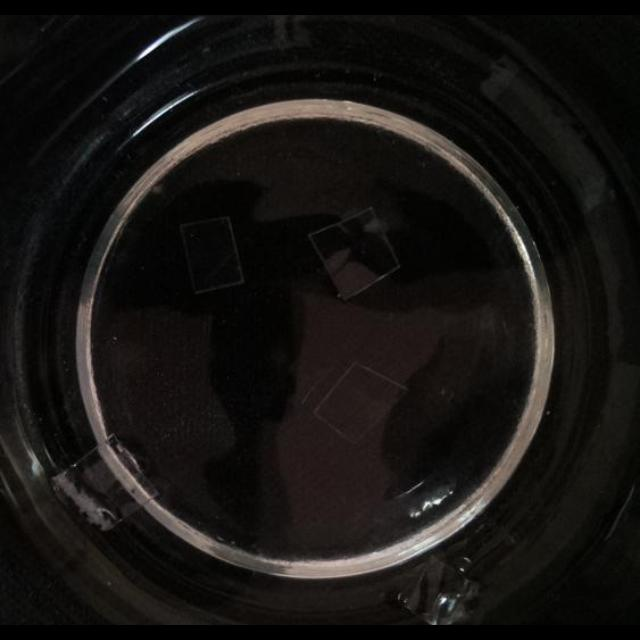Film: (54, 436, 160, 530), (304, 206, 402, 300), (310, 358, 412, 447), (398, 555, 480, 625), (178, 216, 246, 294)
